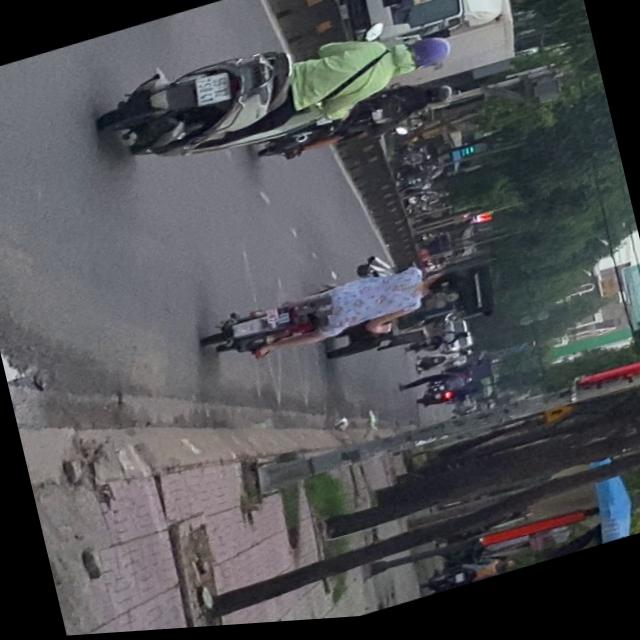helmet: (394, 34, 456, 81), (423, 87, 455, 111)
licenseplate: (84, 0, 462, 189), (198, 243, 478, 390), (243, 72, 460, 178)
motorcyclist: (416, 265, 470, 311)
nohelmet: (194, 73, 232, 109)
